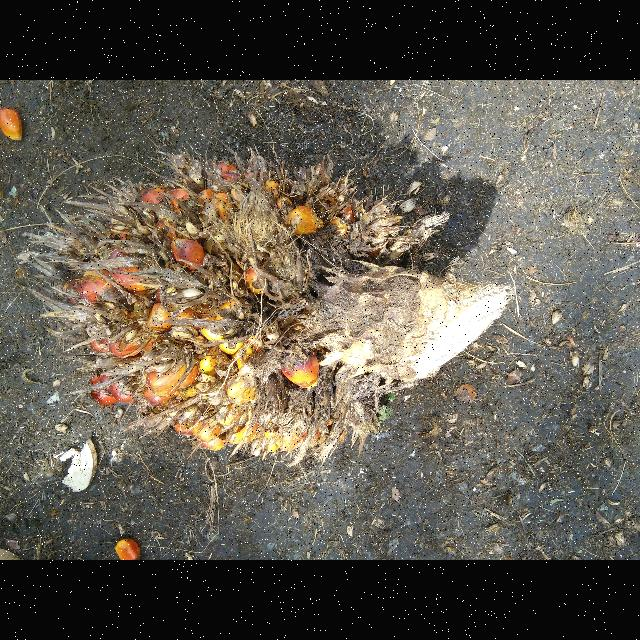Overripe: (26, 156, 515, 461)
